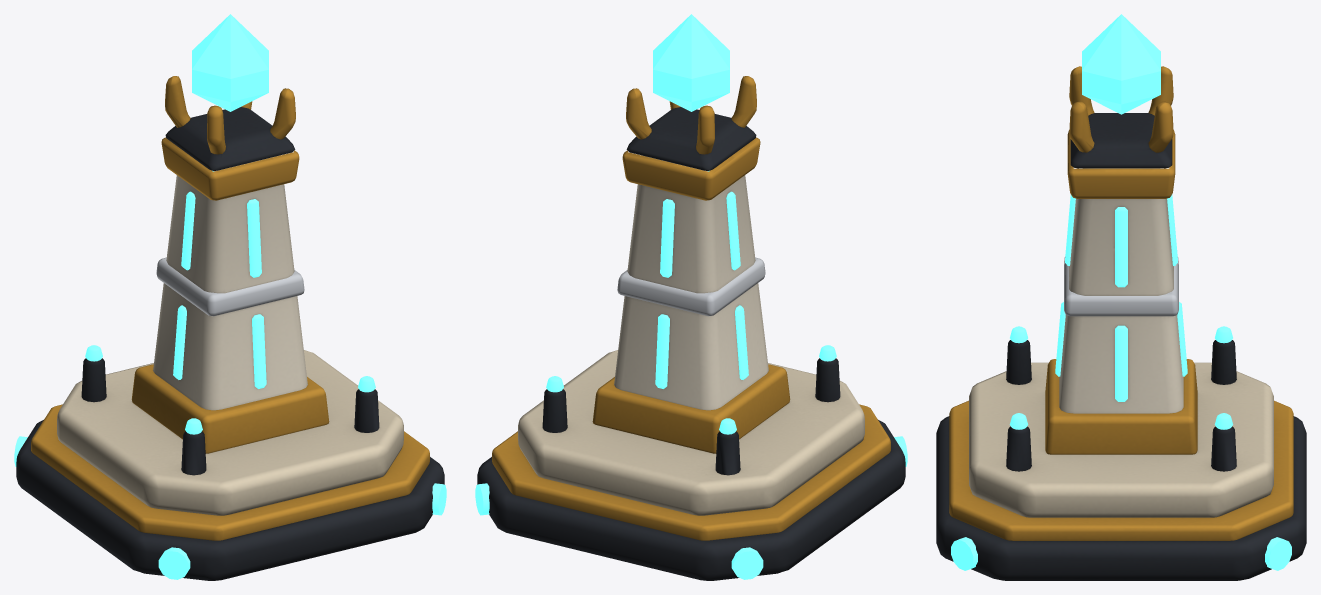
The model's file is ambron_relay.glb.
3 renders of one model, left to right at view 1: azimuth 30°, elevation 25°; view 2: azimuth 150°, elevation 25°; view 3: azimuth 270°, elevation 25°, orthographic. The views are drawn at different scales.
Parts seen in each view (by area): view 1: ambron_relay, ambron_relay_crystal; view 2: ambron_relay, ambron_relay_crystal; view 3: ambron_relay, ambron_relay_crystal.
Part boxes in pixels (x1,y1,x2,y2): ambron_relay: (14,76,446,580); ambron_relay_crystal: (192,14,268,111); ambron_relay: (475,76,907,580); ambron_relay_crystal: (653,14,729,111); ambron_relay: (936,66,1306,580); ambron_relay_crystal: (1082,14,1160,114).
Size of the model in its own units: 1.7 by 2.5 by 1.7.
Materials: 3 (1 with a texture image).
